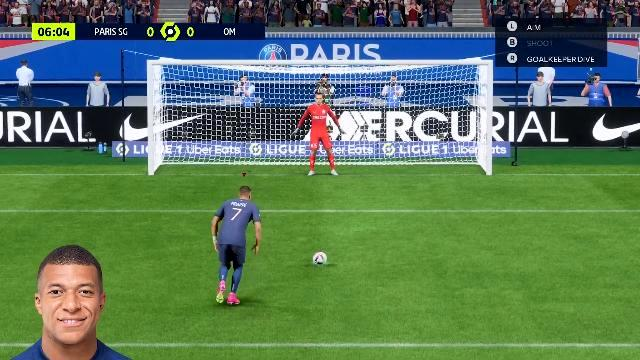bottom-left: (156, 124, 272, 178)
bottom-right: (370, 124, 486, 178)
center-down: (275, 125, 369, 177)
center-up: (274, 65, 368, 123)
circle: (312, 262, 330, 264)
football: (313, 251, 327, 263)
goalkeeper: (292, 92, 350, 180)
player: (214, 186, 260, 310)
top-left: (154, 66, 272, 122)
top-right: (371, 66, 487, 124)
